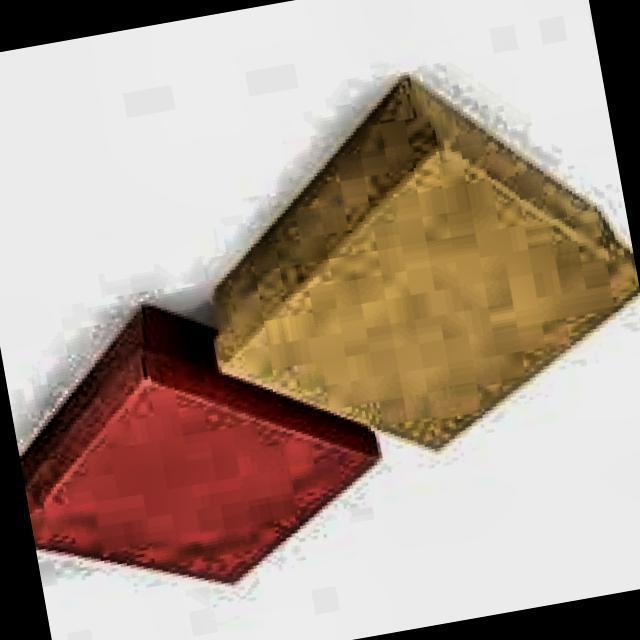cardboard: (167, 41, 640, 493), (0, 271, 400, 624)
